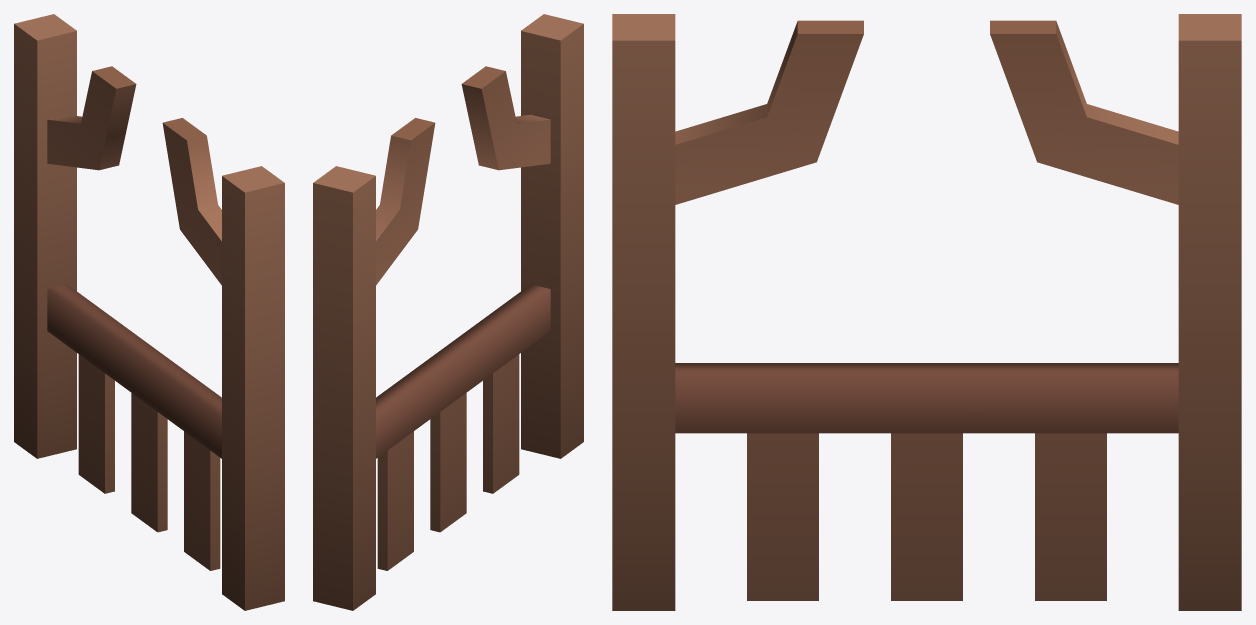
The model's file is balcony-wall-fence.glb.
3 renders of one model, left to right at view 1: azimuth 30°, elevation 25°; view 2: azimuth 150°, elevation 25°; view 3: azimuth 270°, elevation 25°, orthographic. The views are drawn at different scales.
Parts seen in each view (by area): view 1: balcony-wall-fence; view 2: balcony-wall-fence; view 3: balcony-wall-fence.
Part boxes in pixels (x1,y1,x2,y2): balcony-wall-fence: (14, 14, 284, 610); balcony-wall-fence: (313, 14, 583, 610); balcony-wall-fence: (612, 14, 1241, 610).
Size of the model in its own units: 0.2999 by 3 by 3.
